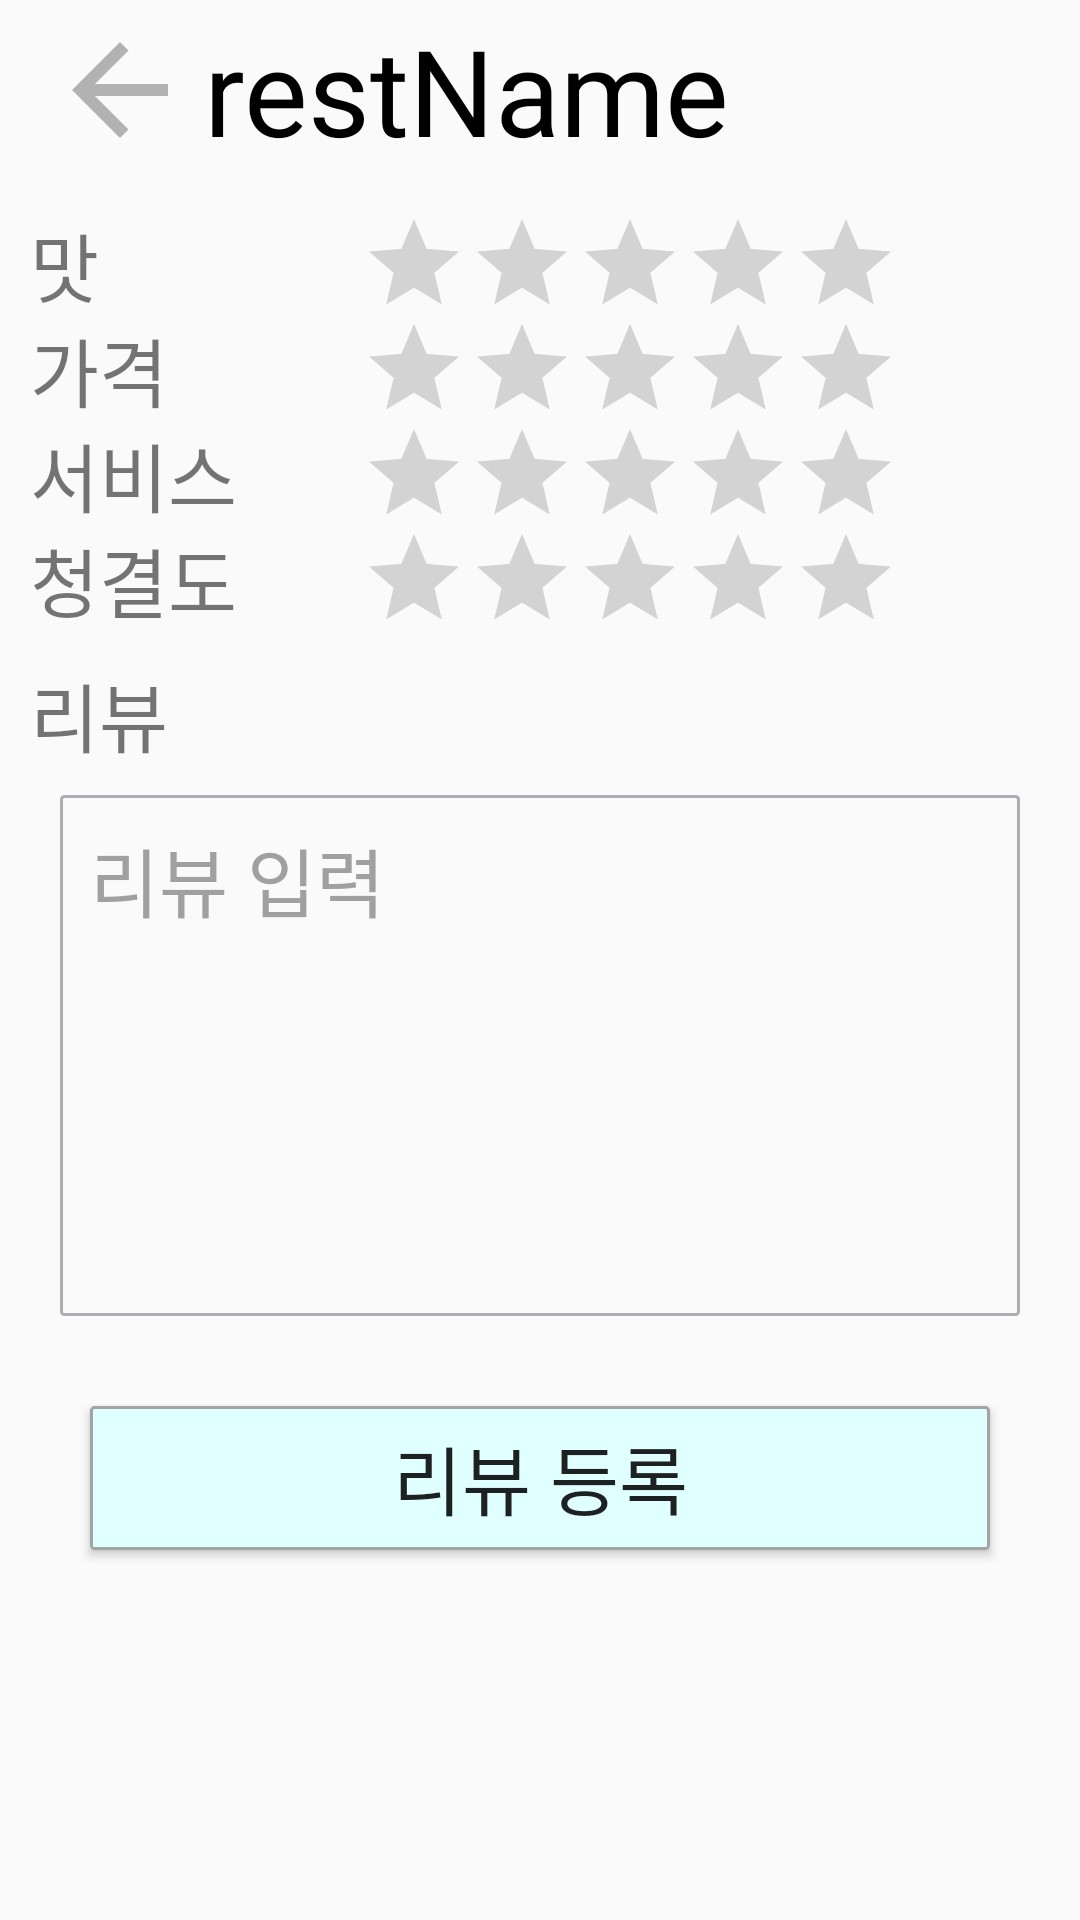

Icons on this 1080px×1920px Android screen, each with its box as rect(x1, y1, x2, y2):
arrow back: rect(72, 42, 168, 138)
